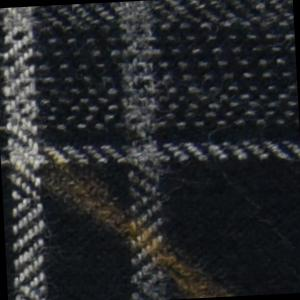Oil Stain: (7, 132, 248, 300)
